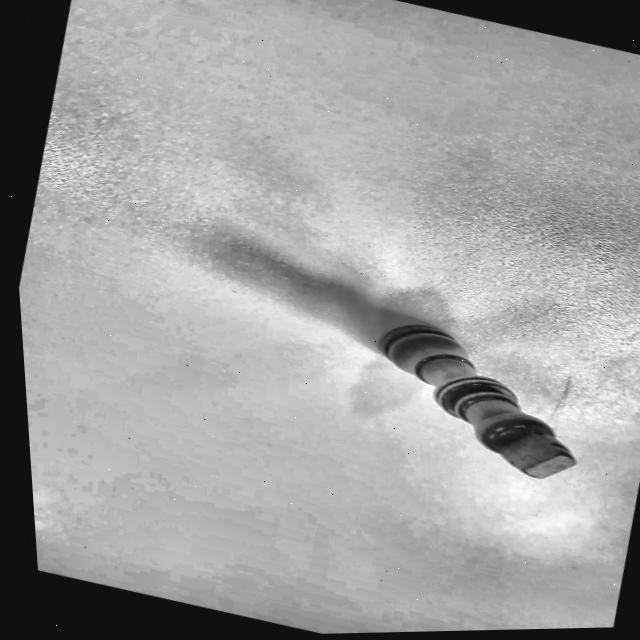black-king: (338, 302, 610, 497)
